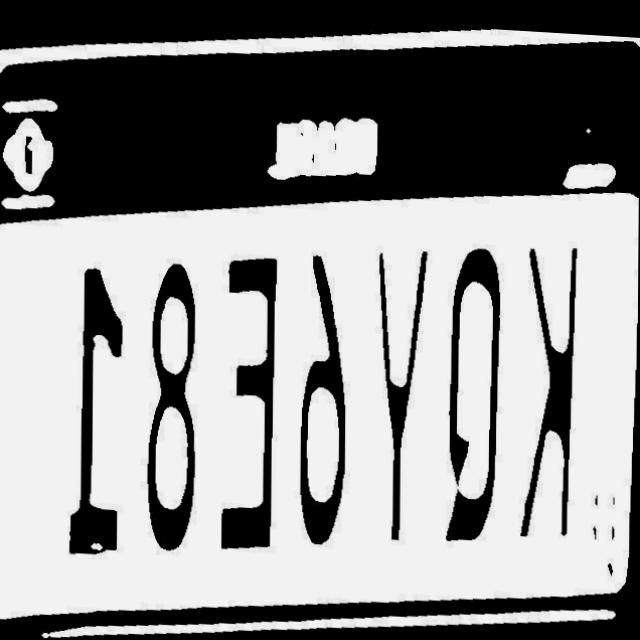1: (62, 260, 130, 568)
6: (292, 248, 355, 551)
8: (141, 257, 205, 553)
e: (212, 245, 284, 552)
k: (515, 231, 589, 537)
q: (441, 237, 509, 546)
y: (367, 235, 432, 540)
